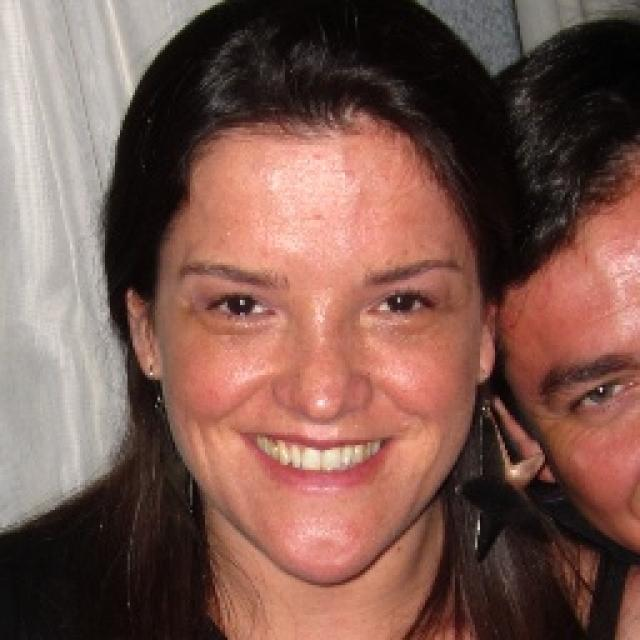earlobe: (137, 358, 162, 379), (478, 358, 496, 384)
eye: (204, 290, 274, 320), (371, 290, 435, 322), (572, 376, 634, 409)
nose: (274, 399, 369, 430)
wholeear: (125, 288, 162, 378), (474, 308, 496, 386)
